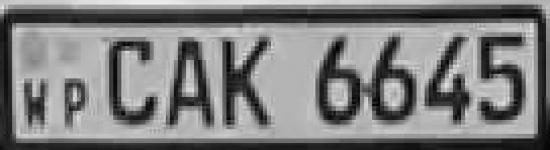4: (421, 30, 475, 134)
5: (476, 28, 534, 129)
6: (312, 29, 367, 132), (366, 31, 420, 132)
A: (164, 34, 219, 132)
C: (105, 33, 165, 132)
K: (217, 30, 277, 133)
P: (57, 74, 93, 132)
W: (19, 72, 53, 130)
